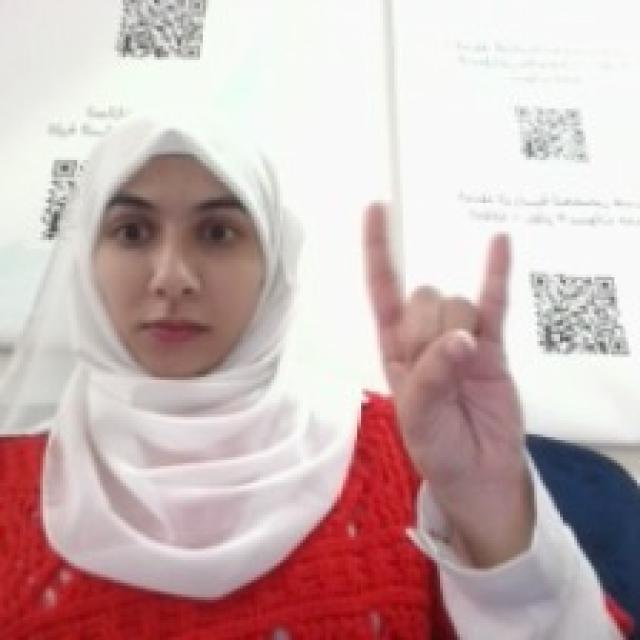No: (348, 191, 528, 486)
